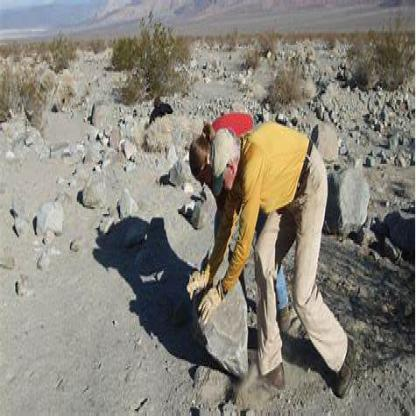person: (180, 78, 372, 409)
